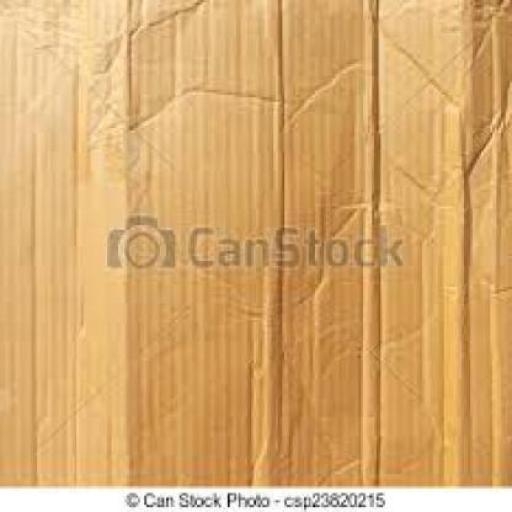cardboard: (0, 0, 510, 484)
